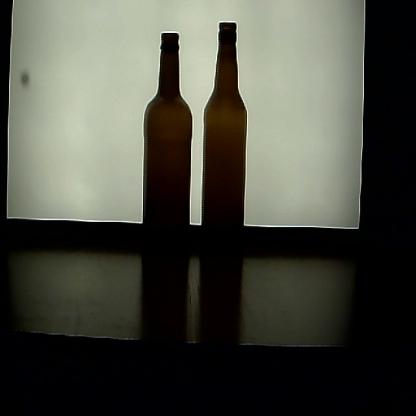Can: (138, 28, 196, 281), (198, 20, 250, 275)
